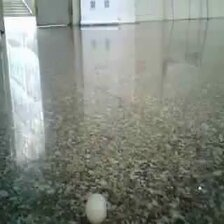w: (85, 193, 108, 224)
